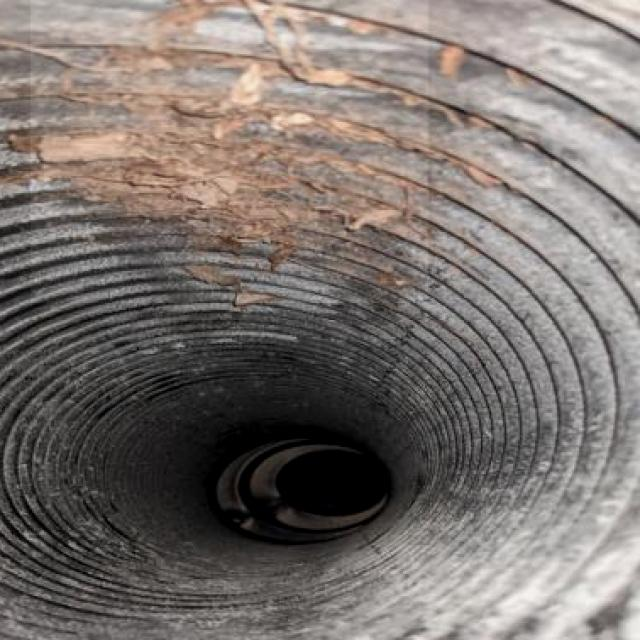dirt: (70, 8, 318, 249)
